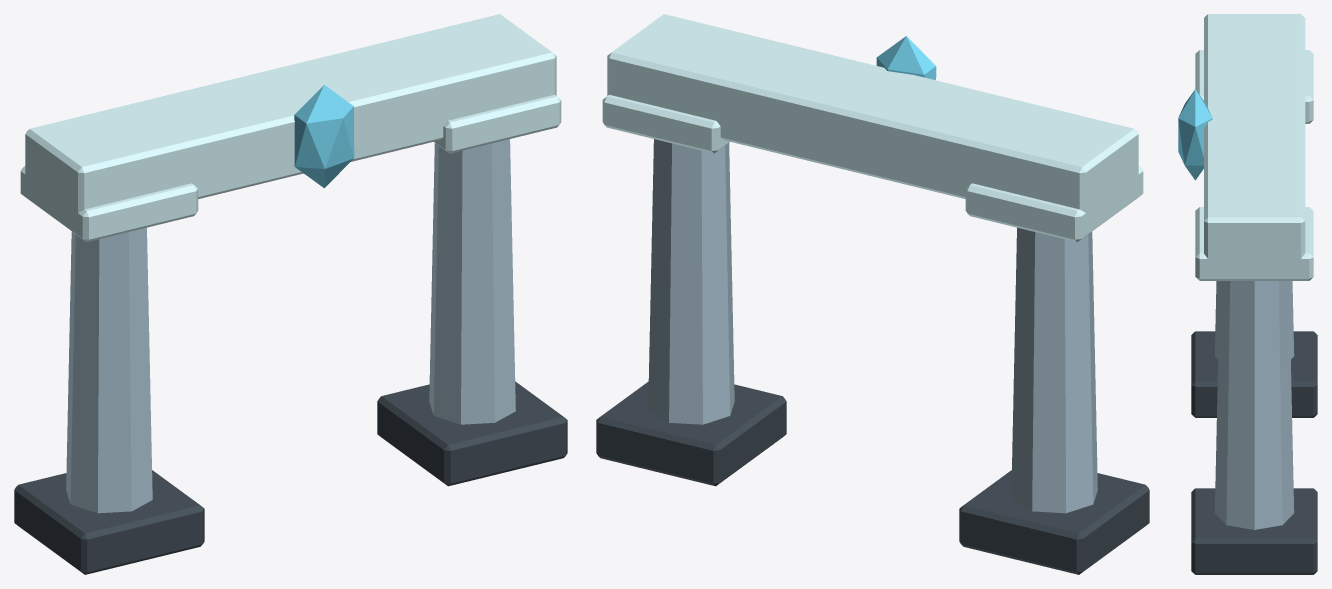
File: SH10_L06_IceArch.fbx
3 views of the same model, side by side, from view 1: azimuth 30°, elevation 25°; view 2: azimuth 150°, elevation 25°; view 3: azimuth 270°, elevation 25° (orthographic). The views are drawn at different scales.
Visible parts, largest first — view 1: SH10_L06_IceArch; view 2: SH10_L06_IceArch; view 3: SH10_L06_IceArch.
Part boxes in pixels (x1,y1,x2,y2): SH10_L06_IceArch: [14, 14, 567, 574]; SH10_L06_IceArch: [596, 14, 1149, 574]; SH10_L06_IceArch: [1178, 14, 1317, 574].
Bounding box in the file's own units: 295 × 250 × 82.71.
